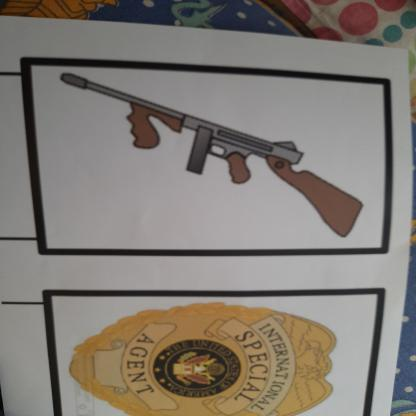Bootlegger: (52, 67, 381, 244)
G-man: (47, 299, 352, 416)
